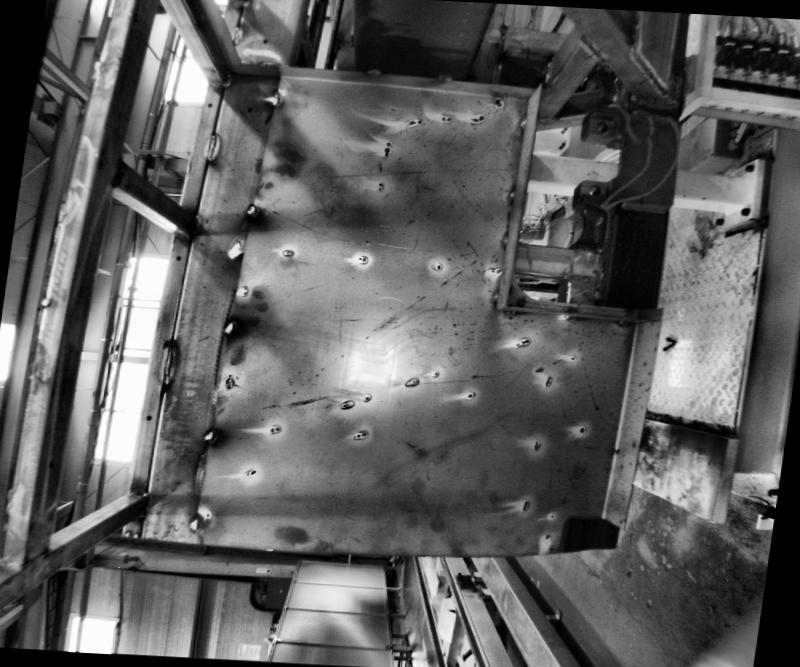hole: (586, 183, 601, 198), (593, 121, 609, 134), (174, 254, 182, 262), (246, 107, 251, 112), (146, 415, 151, 420), (262, 38, 266, 44), (206, 102, 210, 106)
welding: (626, 51, 668, 90), (578, 32, 604, 58), (162, 343, 174, 390), (202, 424, 219, 447), (228, 23, 242, 48), (242, 202, 260, 221), (204, 131, 216, 159), (270, 91, 284, 109), (221, 320, 235, 336), (516, 114, 531, 128), (433, 71, 452, 82), (187, 516, 201, 530), (559, 314, 579, 320), (365, 68, 378, 76), (491, 290, 499, 302), (507, 188, 516, 198), (618, 321, 630, 326), (504, 309, 514, 314), (502, 235, 506, 243)
